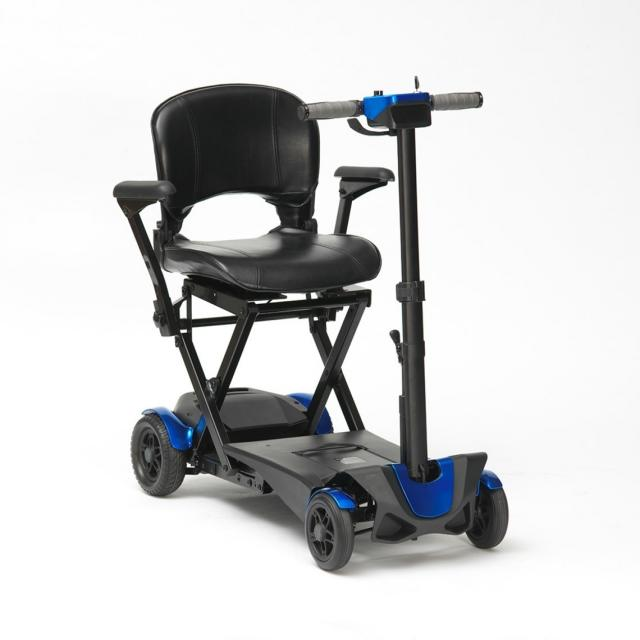wheelchair: (88, 69, 550, 587)
